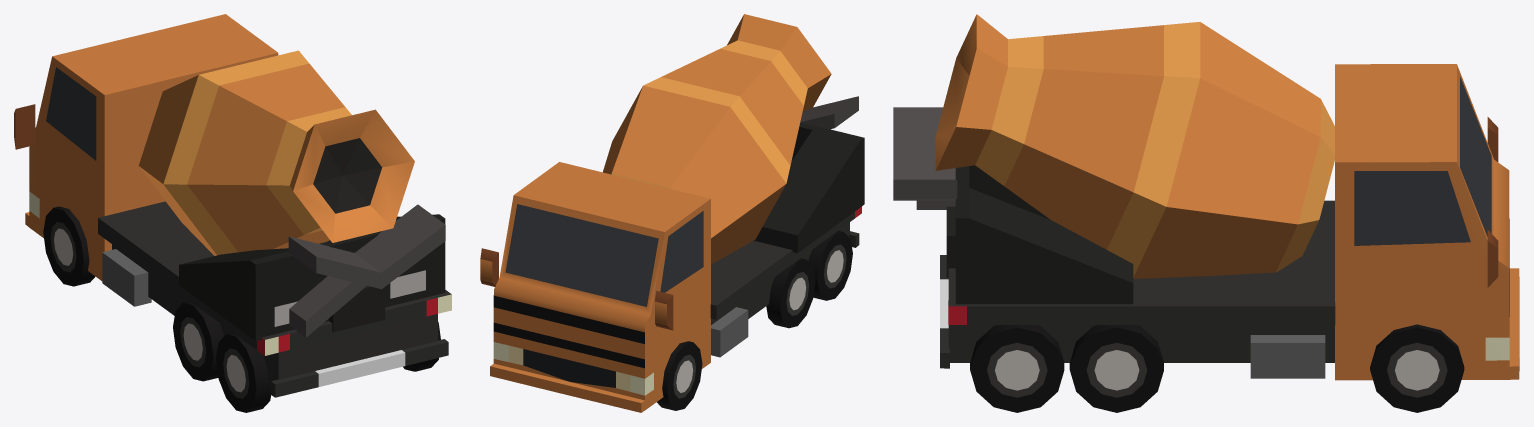
Rendered from Truck002.fbx.
The picture shows the model from 3 angles, left to right: view 1: azimuth 30°, elevation 25°; view 2: azimuth 150°, elevation 25°; view 3: azimuth 270°, elevation 25°; orthographic projection. The views are drawn at different scales.
Visible parts, largest first — view 1: Trunk002; view 2: Trunk002; view 3: Trunk002.
Boxes of the visible parts, <box> form: Trunk002: <box>14,14,451,412</box>; Trunk002: <box>480,14,864,412</box>; Trunk002: <box>893,14,1519,412</box>.
Bounding box in the file's own units: 236 × 291 × 503.
